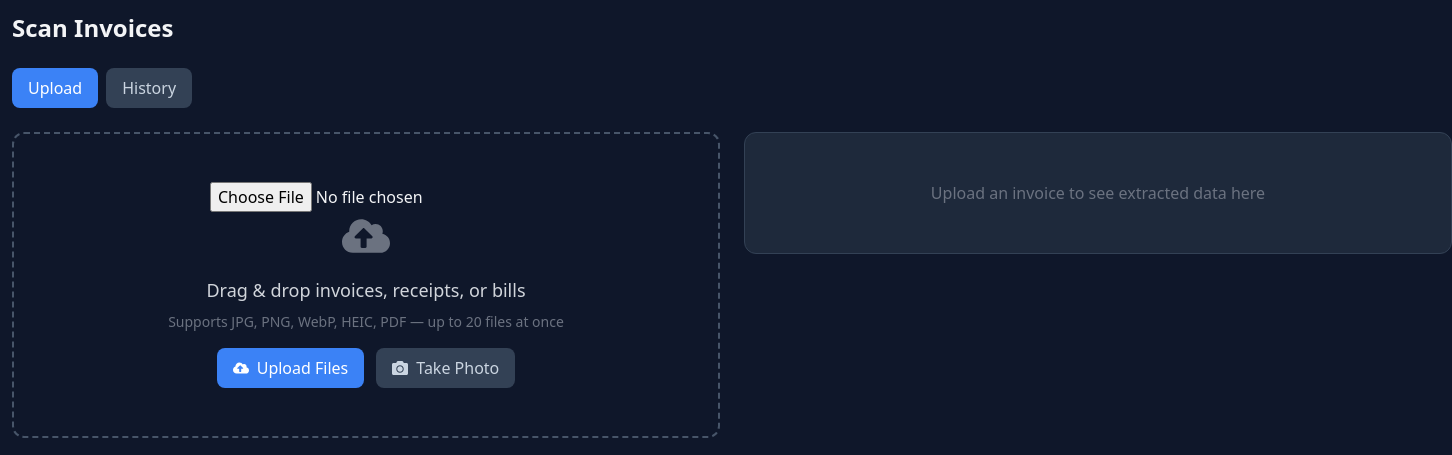
Scenario: ScanPage › shows empty history when no scans
Click the button "History". click: (149, 88)
box: top-left (106, 68), bottom-right (192, 108)
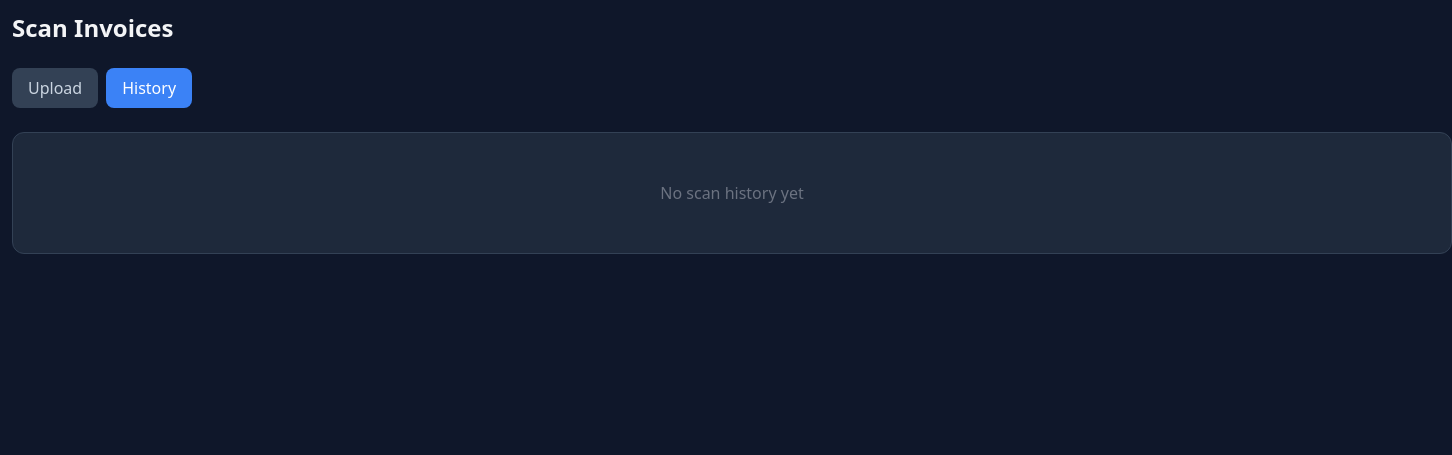
Now the text "No scan history yet" is shown, box top-left (660, 182), bottom-right (804, 204)
